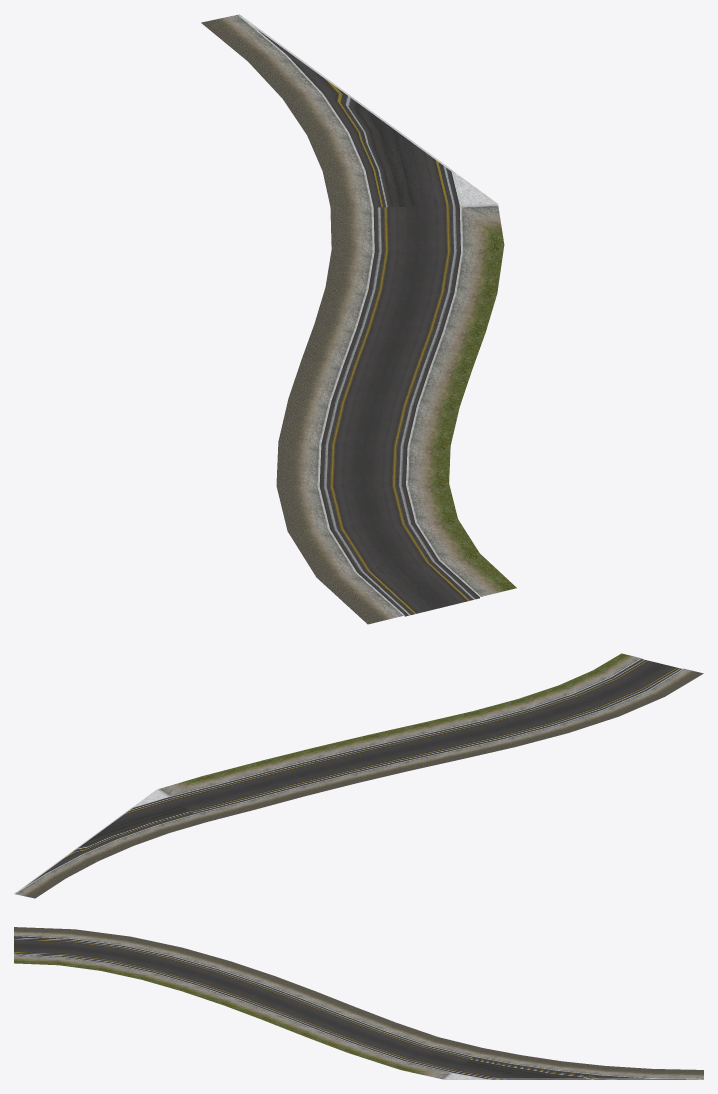
Rendered from vegaswedge26.obj.
3 views of the same model, one above another, from view 1: azimuth 30°, elevation 25°; view 2: azimuth 150°, elevation 25°; view 3: azimuth 270°, elevation 25° (orthographic). The views are drawn at different scales.
Visible parts, largest first — view 1: vegasWedge26; view 2: vegasWedge26; view 3: vegasWedge26.
Part boxes in pixels (x1,y1,x2,y2): vegasWedge26: (201, 14, 516, 624); vegasWedge26: (14, 653, 703, 898); vegasWedge26: (14, 927, 703, 1079).
Size of the model in its own units: 75.16 by 4.17 by 160.
Materials: 6 (6 with a texture image).
